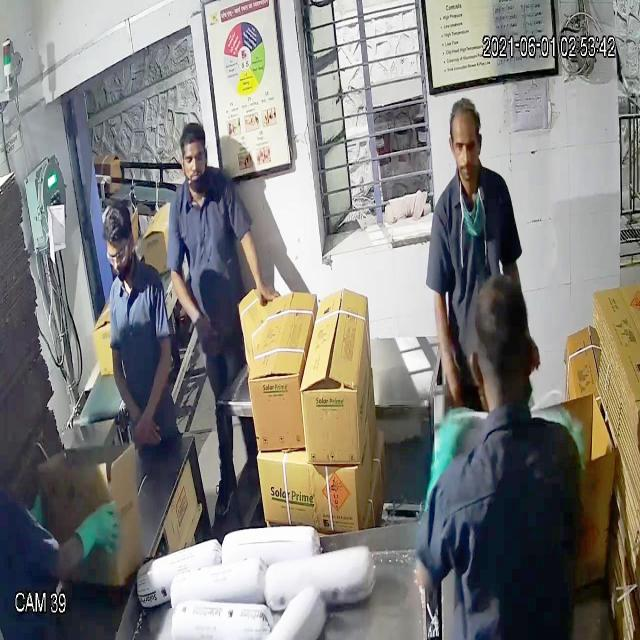glasses: (102, 237, 136, 274)
no-glass: (446, 128, 486, 163), (174, 145, 214, 173)
